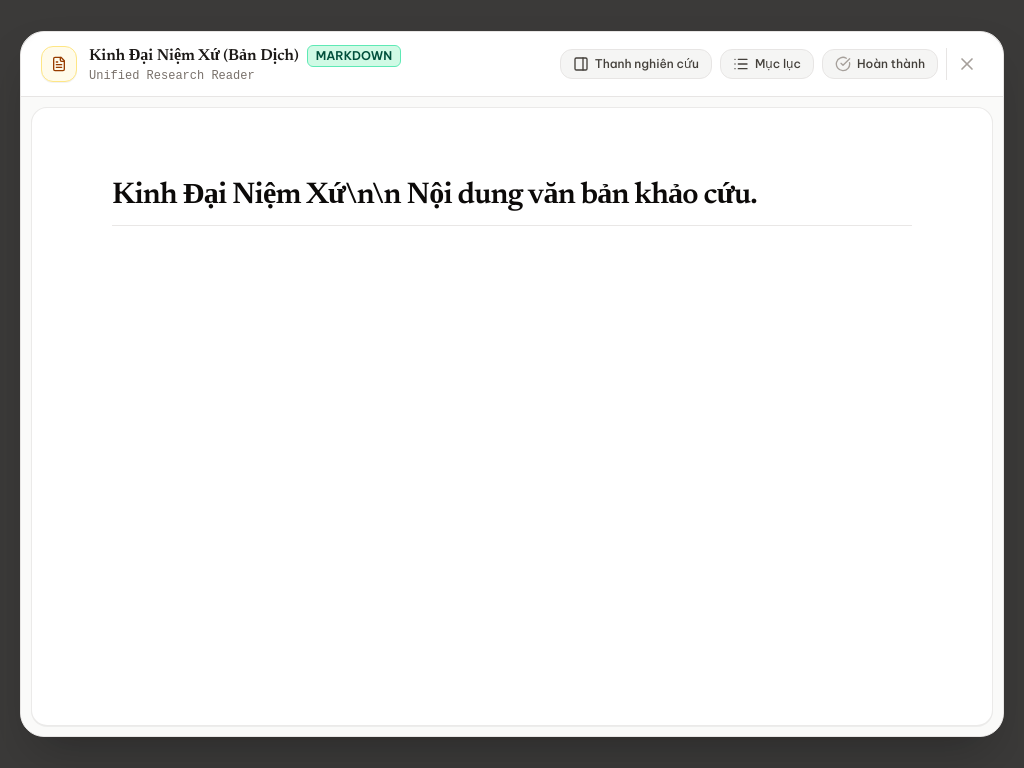
Scenario: Reader Save to Note & Scoped Notes Contract (Red Stage) › 2. Saving excerpt to target note in UnifiedResearchReader keeps the note visible in Ghi chú tab when matching by fileUrl or archiveUri
This screenshot has width=1024, height=768.
Note: Open Reader Sidebar
Click the button with test id "reader-toggle-sidebar-btn" at (636, 64), box top-left (560, 49), bottom-right (712, 79)
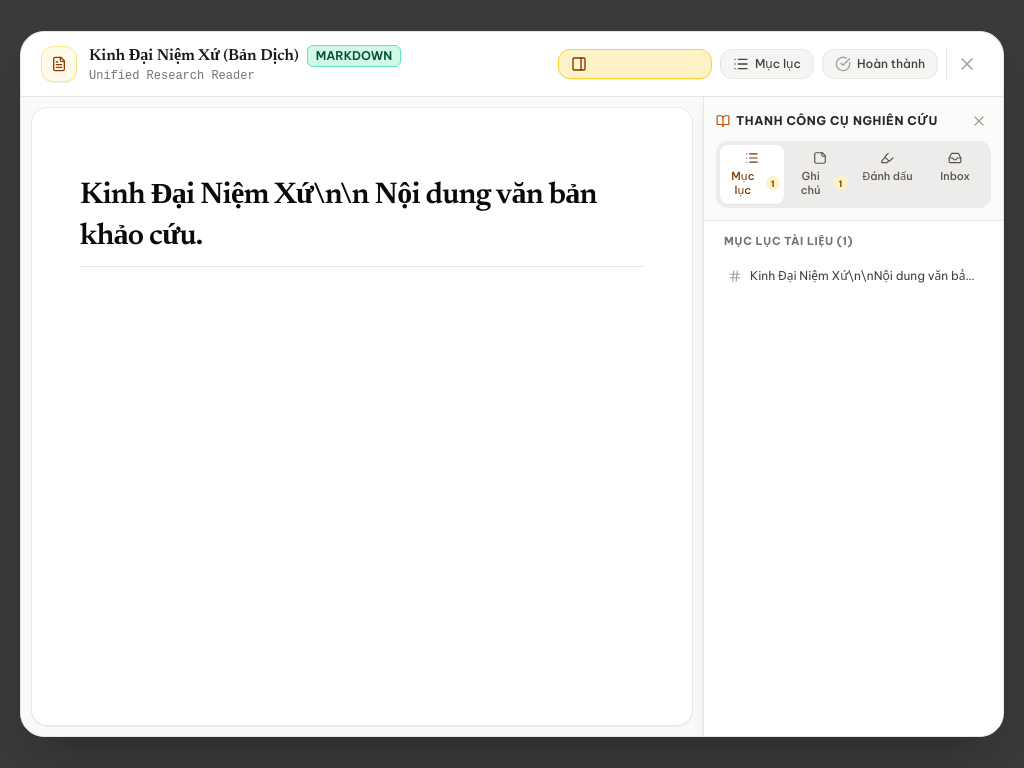
Note: Click "Ghi chú" tab
Click the tab with test id "sidebar-tab-notes" at (820, 174), box top-left (788, 145), bottom-right (852, 204)
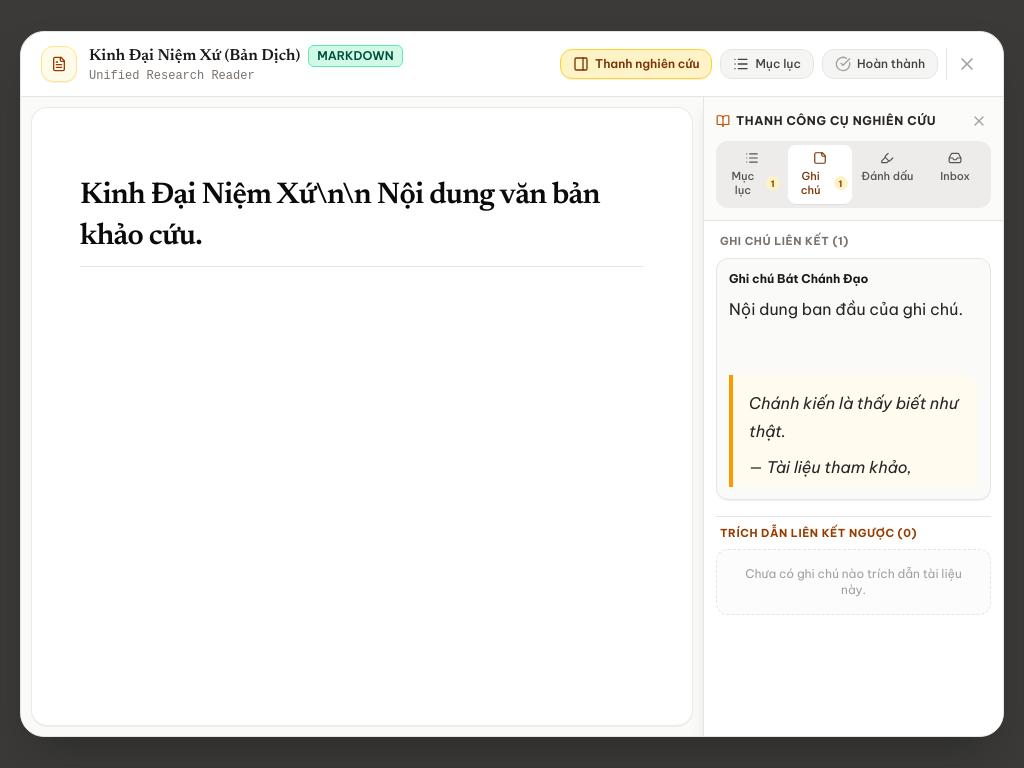
Check: the heading "Ghi chú Bát Chánh Đạo" is shown, box top-left (729, 270), bottom-right (868, 286)
